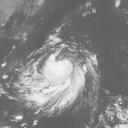cyclone: (16, 45, 93, 118)
